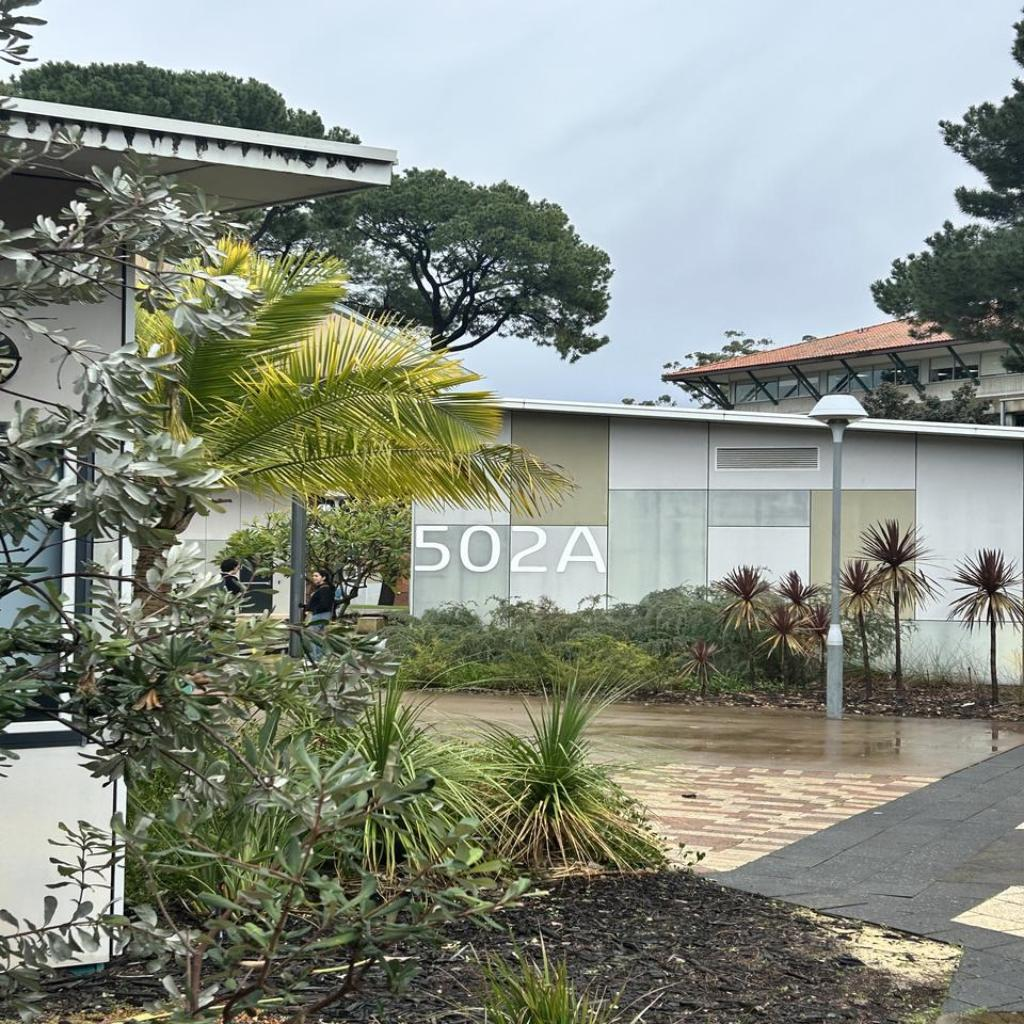BuildingCodes: (412, 520, 610, 576)
